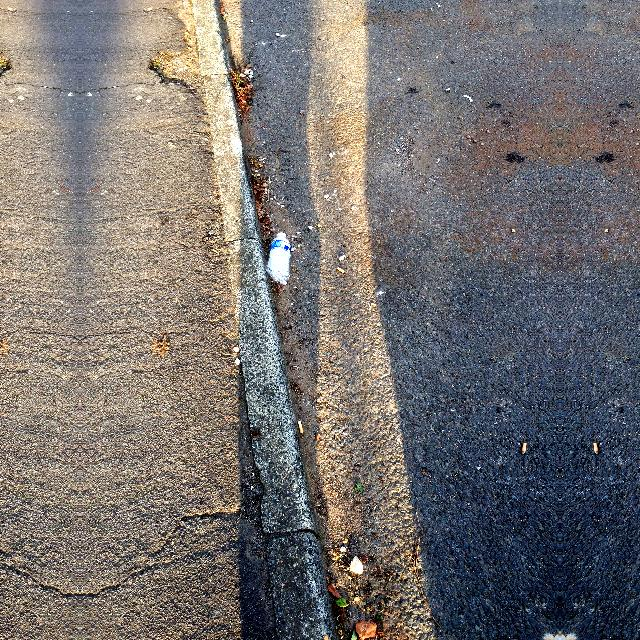Plastic: (260, 230, 294, 288)
